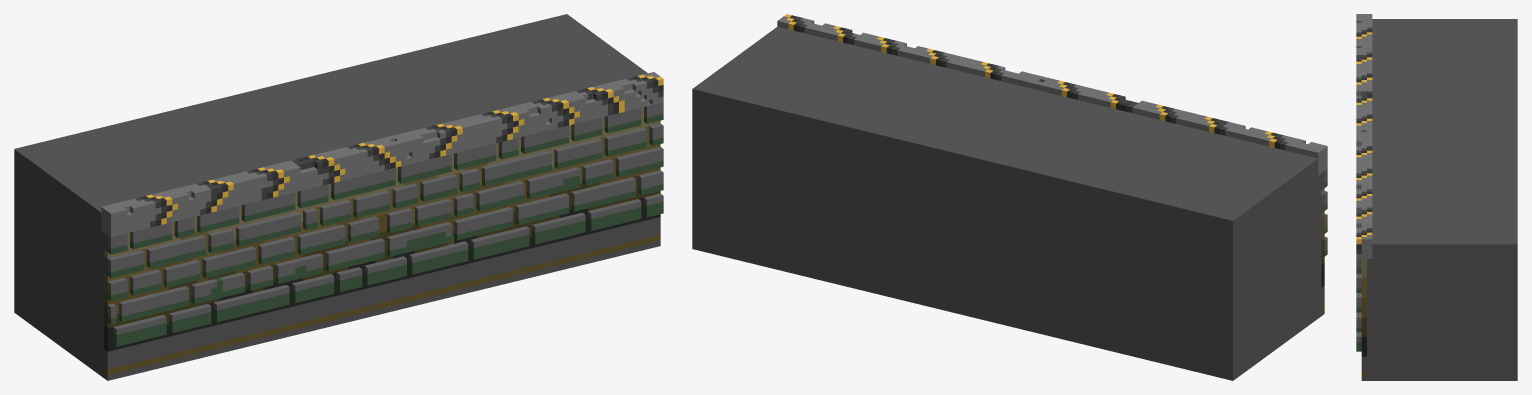
File: StreetLevelGround.fbx
3 renders of one model, left to right at view 1: azimuth 30°, elevation 25°; view 2: azimuth 150°, elevation 25°; view 3: azimuth 270°, elevation 25°, orthographic. The views are drawn at different scales.
Parts seen in each view (by area): view 1: Matrix_1; view 2: Matrix_1; view 3: Matrix_1.
Part boxes in pixels (x1=…): Matrix_1: x1=14, y1=14, x2=663, y2=380; Matrix_1: x1=692, y1=14, x2=1327, y2=380; Matrix_1: x1=1356, y1=14, x2=1517, y2=380.
Bounding box in the file's own units: 99 × 29 × 30.
